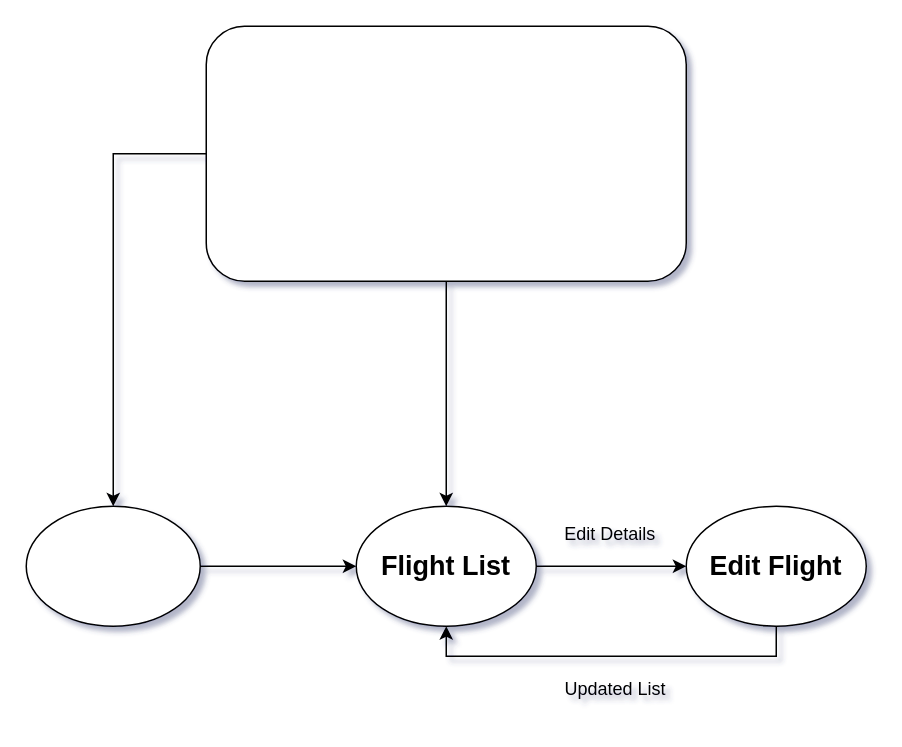
Image size: 902x747. Some labels were removed from this diagram. Each missing label, with the centre of its shape:
"Add Flight" belongs at point (112, 565).
"Home Page" belongs at point (445, 153).
